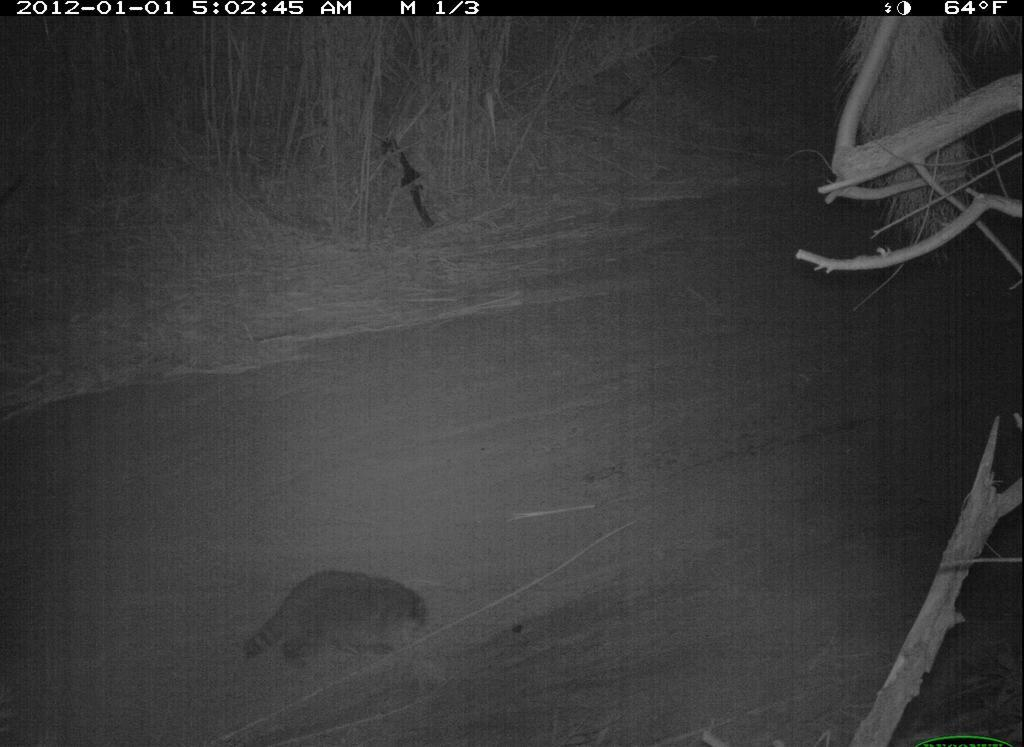raccoon: (235, 565, 431, 687)
